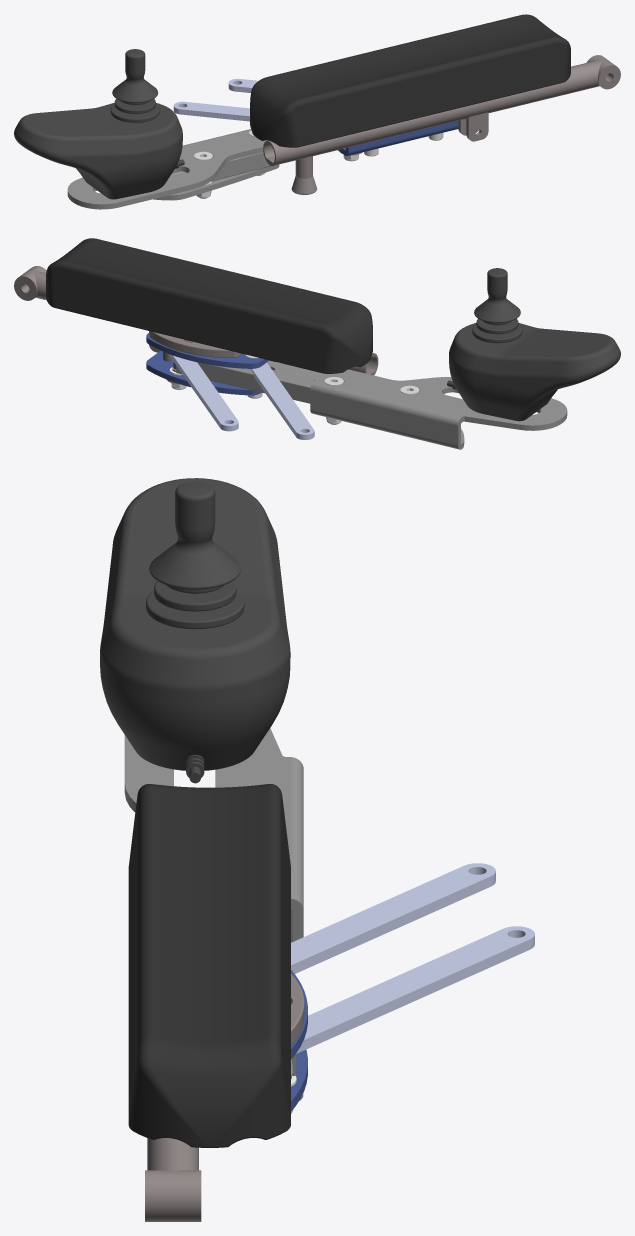
Rendered from 2020-11-11_Pantographe coté Droit.fbx.
3 renders of one model, top to bottom at view 1: azimuth 30°, elevation 25°; view 2: azimuth 150°, elevation 25°; view 3: azimuth 270°, elevation 25°, orthographic. The views are drawn at different scales.
Parts seen in each view (by area): view 1: Body_1_23, Body_1, Body_2, Body_1_3, Body_1_2, Body_1_24, Body_1_5, Body_1_25; view 2: Body_1_23, Body_1, Body_1_3, Body_1_2, Body_1_4, Body_1_25, Body_1_24, Body_2, Body_1_22, Body_1_5; view 3: Body_1_23, Body_1, Body_1_25, Body_1_3, Body_1_24, Body_2, Body_1_2.
Part boxes in pixels (x1,y1,x2,y2): Body_1_23: (250, 14, 570, 147); Body_1: (14, 49, 184, 199); Body_2: (263, 55, 620, 194); Body_1_3: (67, 129, 279, 209); Body_1_2: (338, 121, 458, 156); Body_1_24: (173, 101, 249, 121); Body_1_5: (211, 152, 270, 181); Body_1_25: (228, 78, 258, 92); Body_1_23: (46, 238, 372, 373); Body_1: (447, 268, 620, 421); Body_1_3: (310, 369, 567, 449); Body_1_2: (146, 333, 273, 395); Body_1_4: (172, 362, 313, 403); Body_1_25: (169, 354, 238, 431); Body_1_24: (251, 362, 314, 439); Body_2: (14, 266, 378, 375); Body_1_22: (149, 331, 241, 357); Body_1_5: (267, 360, 323, 380); Body_1_23: (128, 784, 290, 1147); Body_1: (100, 478, 290, 783); Body_1_25: (296, 926, 534, 1053); Body_1_3: (124, 728, 303, 942); Body_1_24: (291, 863, 495, 973); Body_2: (145, 1138, 201, 1221); Body_1_2: (291, 970, 307, 1111).
Size of the model in its own units: 0.5919 by 0.1895 by 0.1669.
